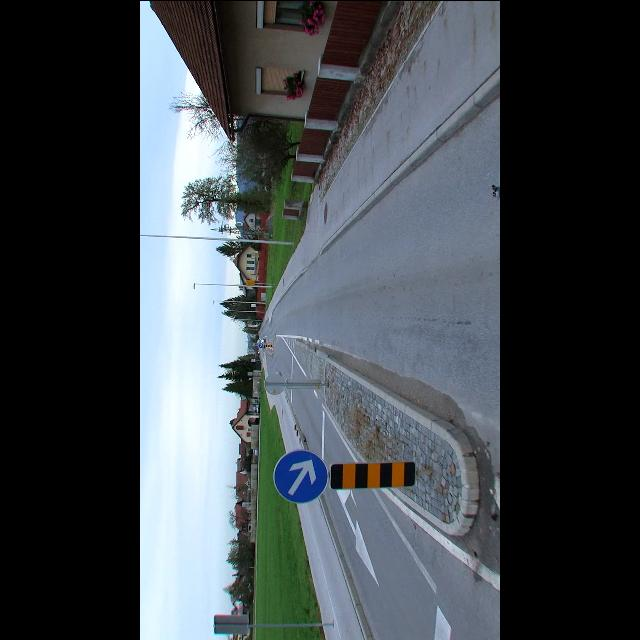Rectangle: (246, 278, 254, 284)
Round: (274, 451, 328, 502), (258, 342, 264, 346)
